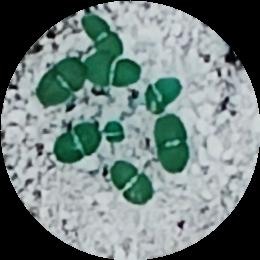Basil: (38, 56, 81, 109), (151, 118, 192, 173), (56, 118, 103, 165), (80, 53, 145, 86), (111, 156, 151, 207), (79, 15, 126, 53), (150, 74, 179, 115), (103, 116, 126, 146)
